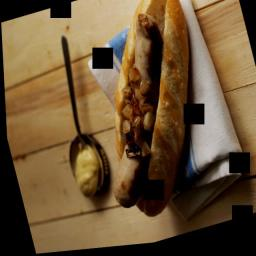hotdog: (66, 0, 227, 233)
